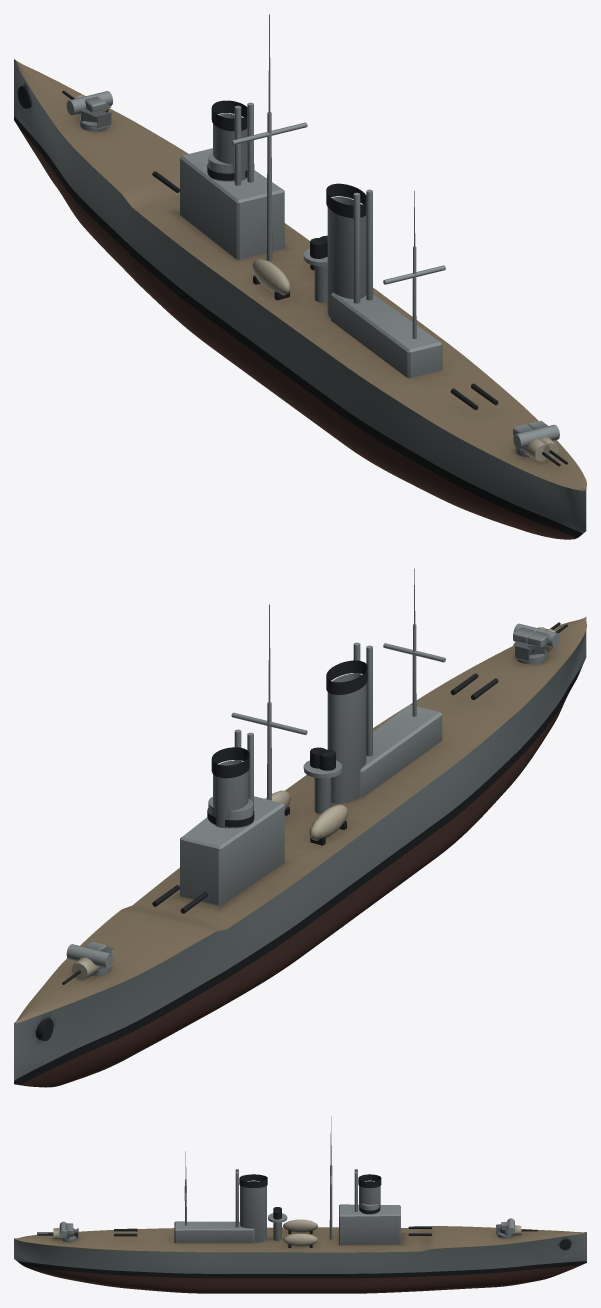
File: sms-v186.glb
3 views of the same model, one above another, from view 1: azimuth 30°, elevation 25°; view 2: azimuth 150°, elevation 25°; view 3: azimuth 270°, elevation 25° (orthographic). The views are drawn at different scales.
Parts seen in each view (by area): view 1: sms-v186; view 2: sms-v186; view 3: sms-v186.
Part boxes in pixels (x1,y1,x2,y2): sms-v186: [14, 14, 586, 539]; sms-v186: [14, 568, 586, 1087]; sms-v186: [14, 1116, 586, 1293].
Size of the model in its own units: 7.74 by 24.1 by 73.9.
